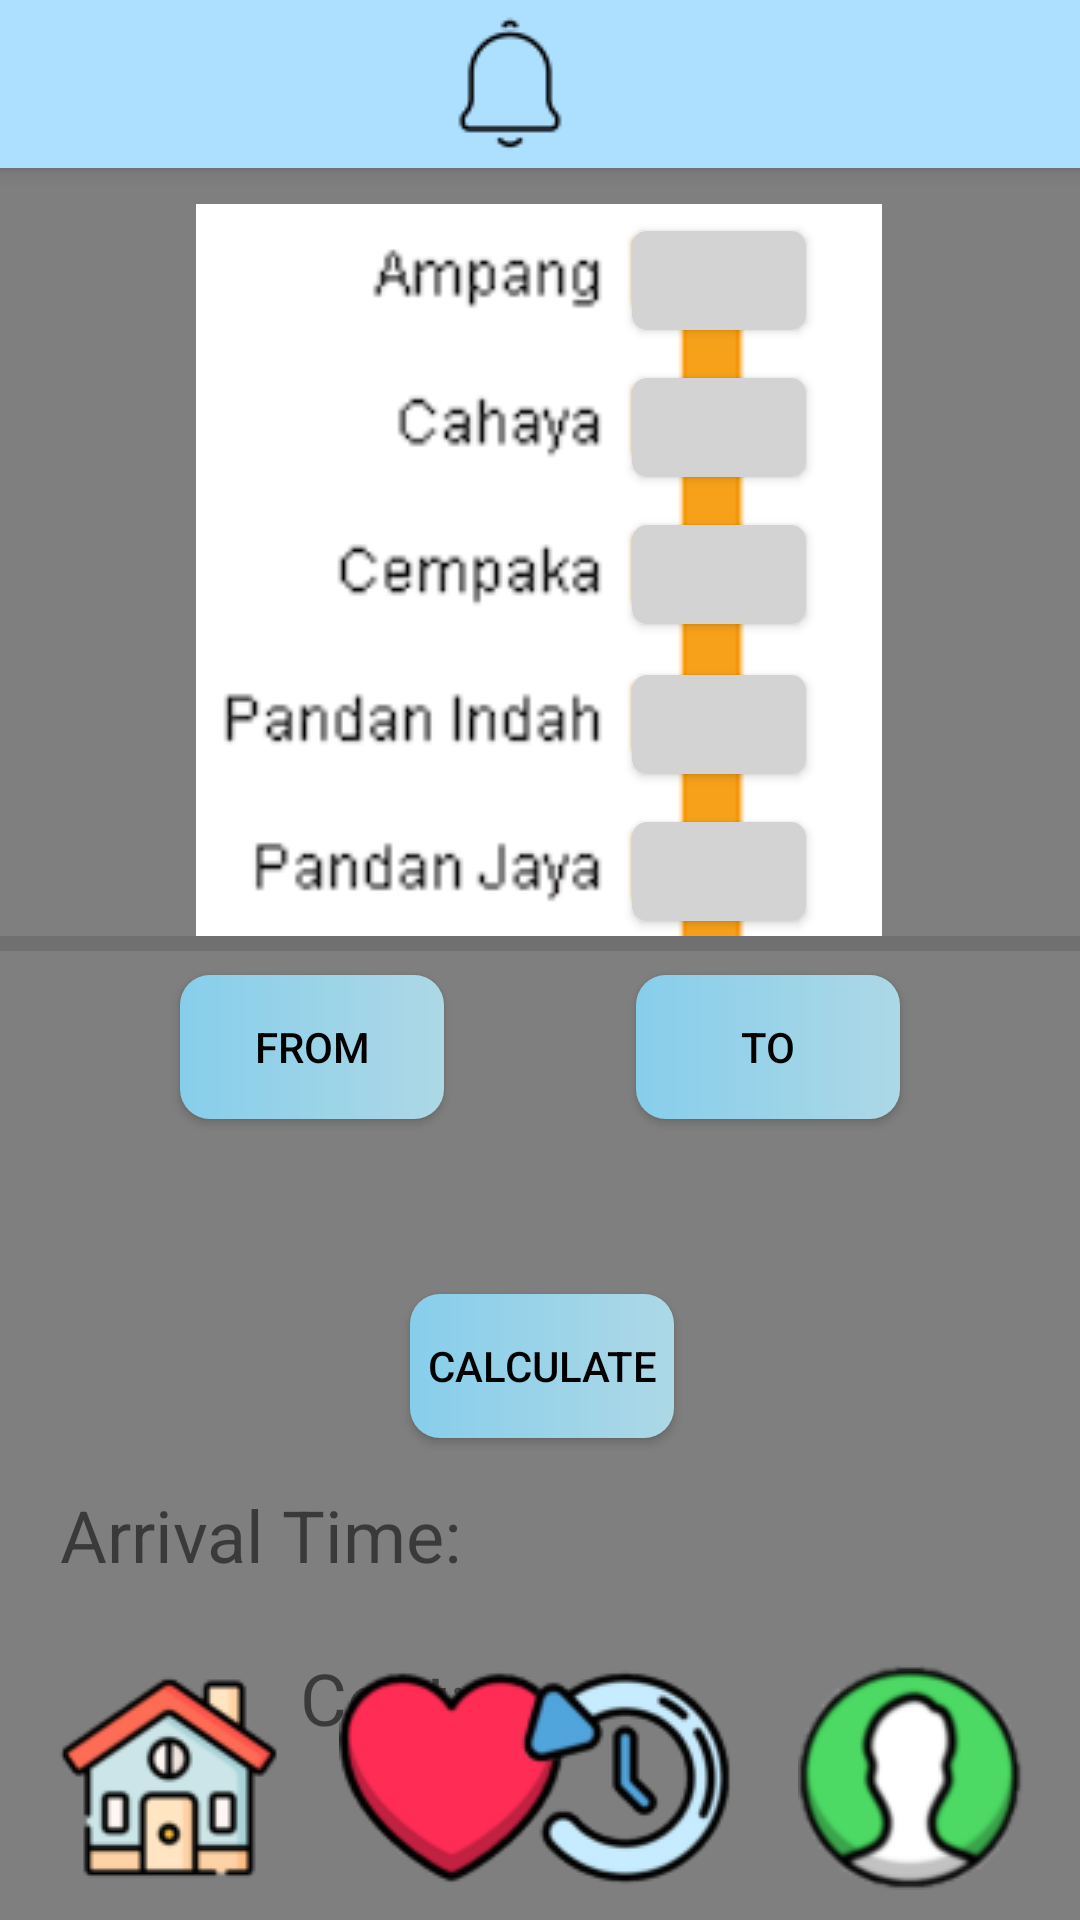

Locate icon controls on the screen. Image size 1080*1920, boxes as bbox=(x1, y1, x2, y2).
heart: bbox=(339, 1673, 564, 1882)
history: bbox=(516, 1673, 730, 1882)
home: bbox=(62, 1679, 277, 1876)
notification: bbox=(458, 18, 562, 148)
profile: bbox=(798, 1667, 1021, 1888)
